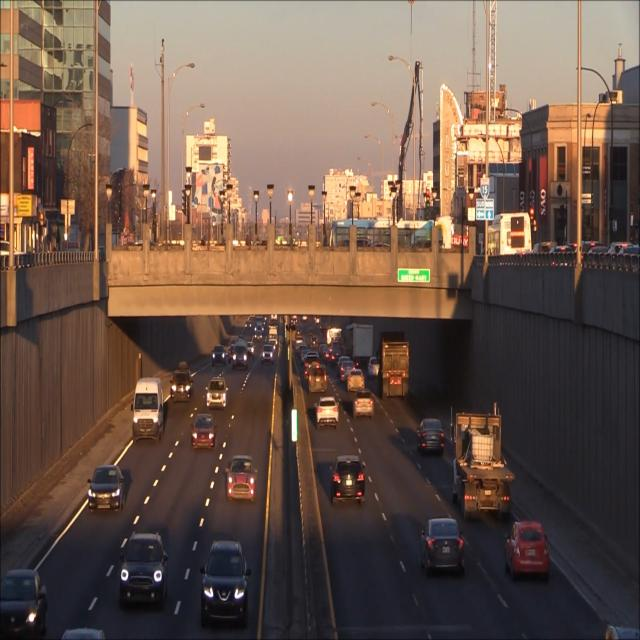Car: (450, 406, 511, 519), (200, 540, 249, 630), (118, 528, 166, 612), (0, 569, 49, 636), (505, 521, 549, 580), (420, 519, 463, 573), (378, 331, 410, 403), (132, 376, 164, 445), (328, 452, 366, 510), (86, 465, 125, 515), (225, 453, 259, 502), (416, 415, 444, 458), (190, 414, 217, 451), (170, 360, 193, 403), (316, 395, 340, 433), (352, 389, 375, 422), (205, 375, 227, 409), (308, 364, 328, 394), (346, 367, 368, 392)
